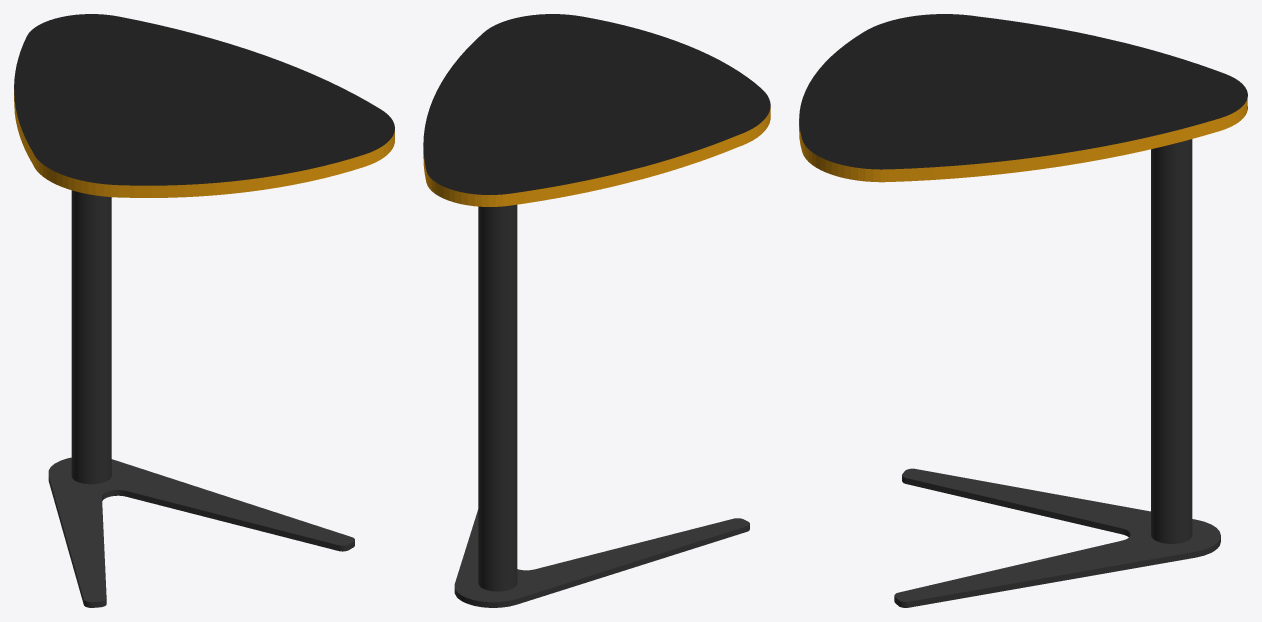
The model's file is Pebble laptop tabel.FBX.
3 renders of one model, left to right at view 1: azimuth 30°, elevation 25°; view 2: azimuth 150°, elevation 25°; view 3: azimuth 270°, elevation 25°, orthographic. The views are drawn at different scales.
Visible parts, largest first — view 1: Group#19_001, Group#16_001, Group#17_001, Object008; view 2: Group#19_001, Group#16_001, Group#17_001, Object008; view 3: Group#19_001, Group#16_001, Group#17_001, Object008.
Boxes of the visible parts, x1,y1,x2,y2 form: Group#19_001: (14, 14, 394, 185); Group#16_001: (71, 190, 111, 484); Group#17_001: (48, 457, 354, 607); Object008: (14, 89, 394, 197); Group#19_001: (423, 14, 770, 194); Group#16_001: (478, 204, 517, 591); Group#17_001: (454, 509, 749, 607); Object008: (423, 108, 770, 206); Group#19_001: (799, 14, 1247, 169); Group#16_001: (1151, 139, 1192, 543); Group#17_001: (894, 468, 1220, 607); Object008: (799, 98, 1247, 182).
Bounding box in the file's own units: 451 × 606 × 550.
